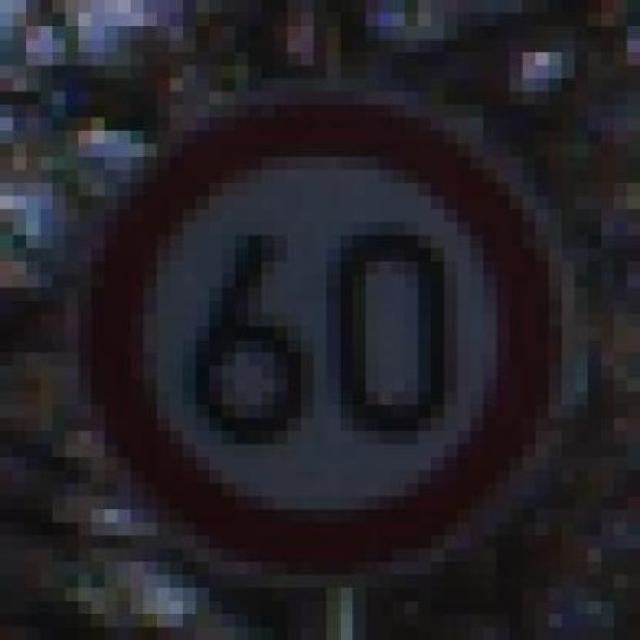forb_speed_over_60: (110, 106, 528, 552)
